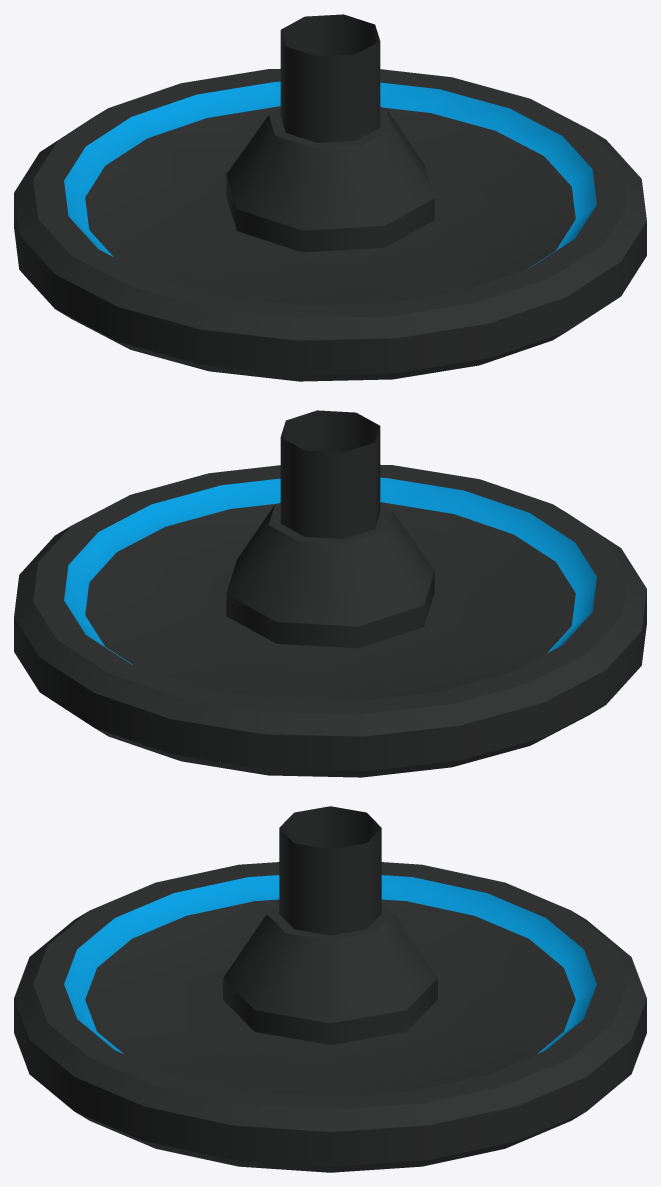
The model's file is Armchair_Leg_003.fbx.
3 views of the same model, one above another, from view 1: azimuth 30°, elevation 25°; view 2: azimuth 150°, elevation 25°; view 3: azimuth 270°, elevation 25° (orthographic).
Visible parts, largest first — view 1: Armchair_Leg_003; view 2: Armchair_Leg_003; view 3: Armchair_Leg_003.
Boxes of the visible parts, box(x1,y1,x2,y2) form: Armchair_Leg_003: box(14, 14, 646, 381); Armchair_Leg_003: box(14, 410, 646, 777); Armchair_Leg_003: box(14, 806, 646, 1172).
Bounding box in the file's own units: 70.59 × 70.59 × 26.98.
